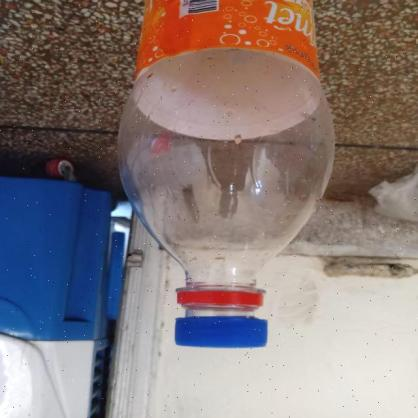bottle: (126, 0, 351, 358)
cap: (162, 284, 279, 351)
label: (132, 0, 336, 86)
